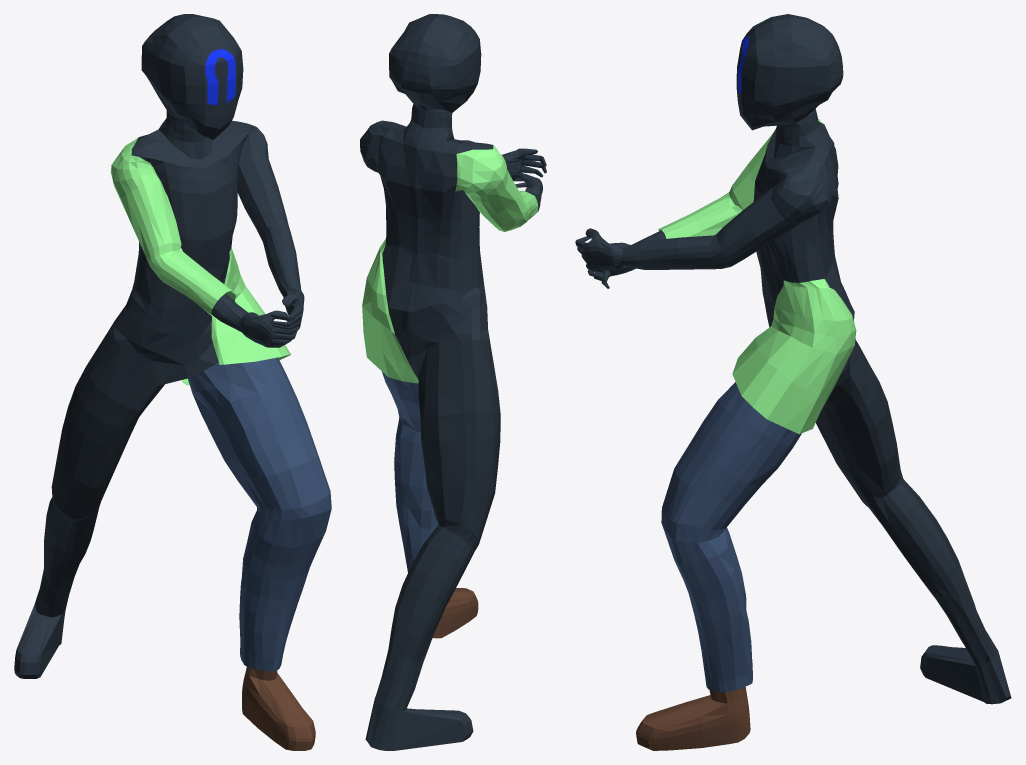
Rendered from Mar_WB_000031.obj.
3 renders of one model, left to right at view 1: azimuth 30°, elevation 25°; view 2: azimuth 150°, elevation 25°; view 3: azimuth 270°, elevation 25°, orthographic. The views are drawn at different scales.
Parts seen in each view (by area): view 1: Cube.000_Cube.001; view 2: Cube.000_Cube.001; view 3: Cube.000_Cube.001.
Part boxes in pixels (x1,y1,x2,y2): Cube.000_Cube.001: (14,14,331,750); Cube.000_Cube.001: (360,14,546,750); Cube.000_Cube.001: (575,14,1011,750).
Bounding box in the file's own units: 1.09 × 3.73 × 2.08.
